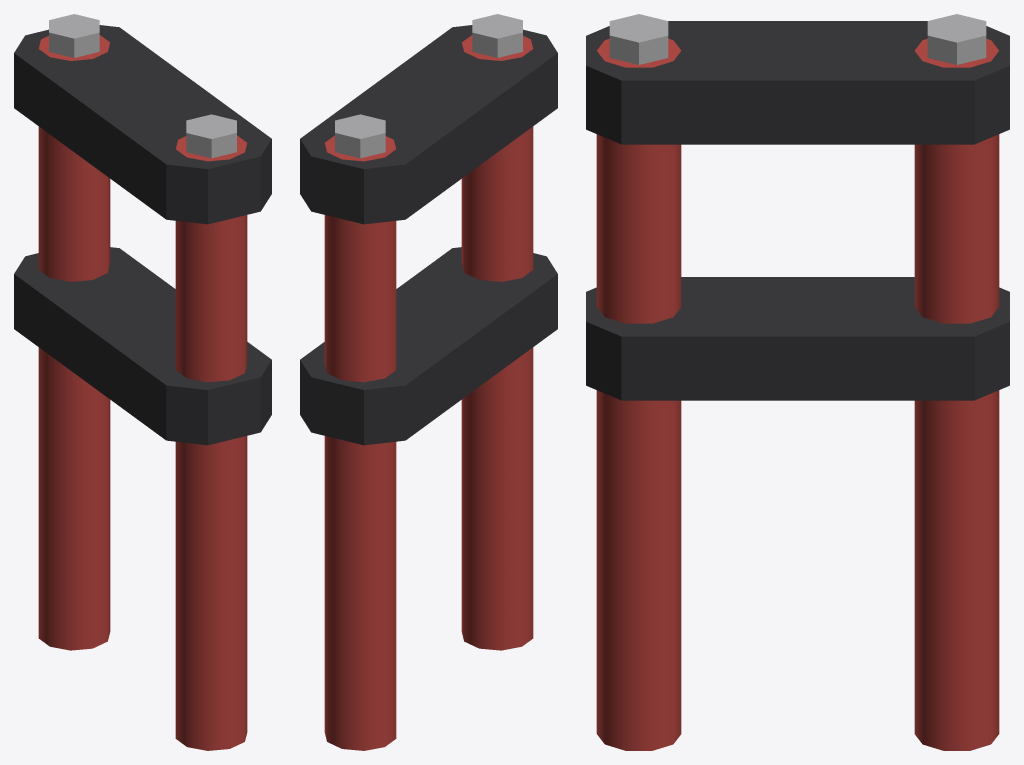
The model's file is telescopic_road_upper_lod1.glb.
3 views of the same model, side by side, from view 1: azimuth 30°, elevation 25°; view 2: azimuth 150°, elevation 25°; view 3: azimuth 270°, elevation 25° (orthographic). The views are drawn at different scales.
Visible parts, largest first — view 1: telescopic_road_upper_lod1; view 2: telescopic_road_upper_lod1; view 3: telescopic_road_upper_lod1.
Part boxes in pixels (left/top/right/bottom): telescopic_road_upper_lod1: left=14, top=14, right=271, bottom=750; telescopic_road_upper_lod1: left=300, top=14, right=557, bottom=750; telescopic_road_upper_lod1: left=586, top=14, right=1009, bottom=750.
Bounding box in the file's own units: 0.08 × 0.441 × 0.24.
